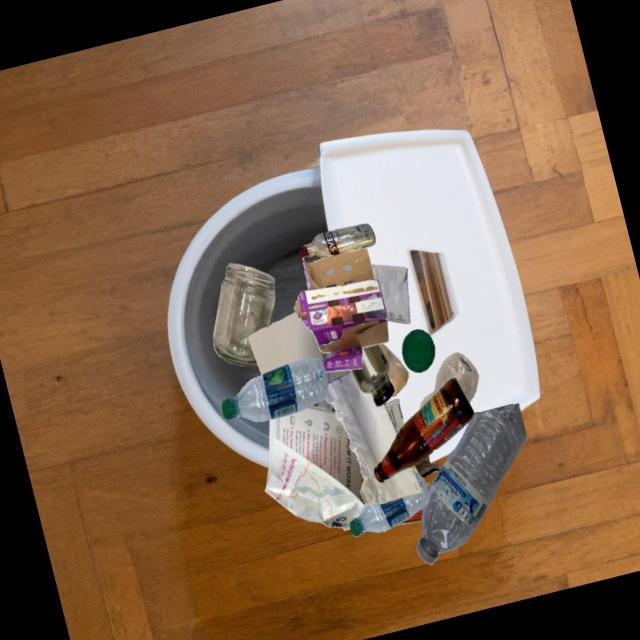cardboard: (294, 248, 388, 372)
glass: (374, 377, 474, 482), (213, 262, 275, 366), (350, 344, 394, 406), (299, 223, 375, 258), (378, 343, 408, 397), (396, 506, 423, 525)
paper: (325, 371, 423, 504), (264, 405, 364, 530), (248, 311, 323, 374), (371, 264, 410, 323), (384, 398, 404, 433), (412, 455, 441, 478), (358, 492, 365, 505)
plastic: (416, 403, 527, 564), (221, 357, 327, 421), (349, 472, 429, 536), (419, 352, 478, 409), (402, 329, 435, 372)
